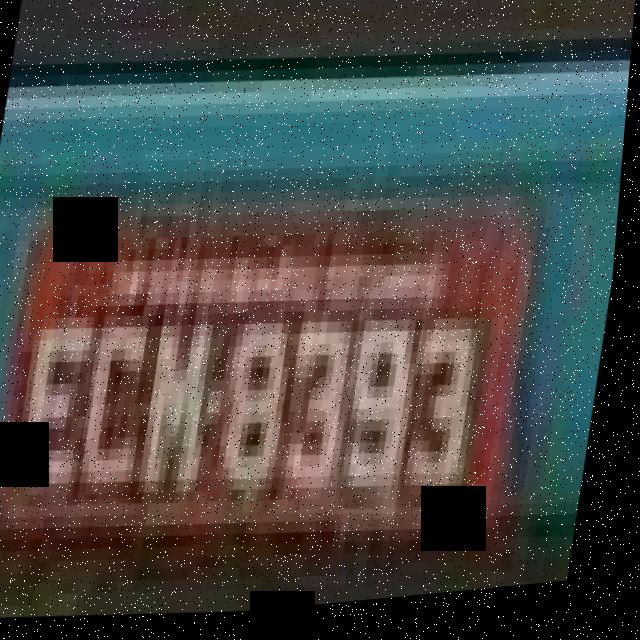3: (405, 315, 502, 520), (283, 304, 370, 524)
8: (213, 303, 310, 519)
9: (338, 314, 433, 527)
C: (79, 304, 171, 506)
E: (17, 312, 106, 507)
M: (138, 301, 226, 518)
